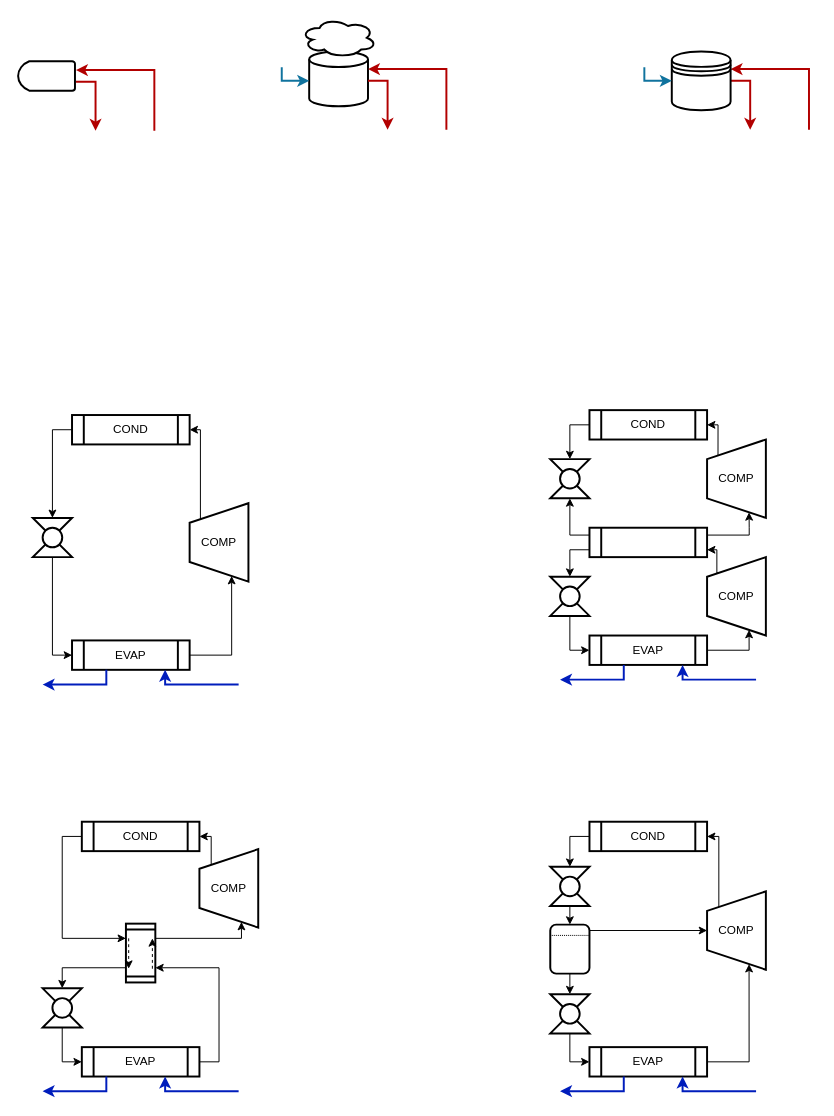
Image size: 834x1116. Some labels were removed from this diagram. The centre of each missing label's shape, as x and y in pixels:
CAS HX: pixel 648 542
Flash tank: pixel 569 948
Hotwater tank: pixel 700 80
IHX: pixel 140 952
Process: pixel 46 75
Steam tank: pixel 338 78
